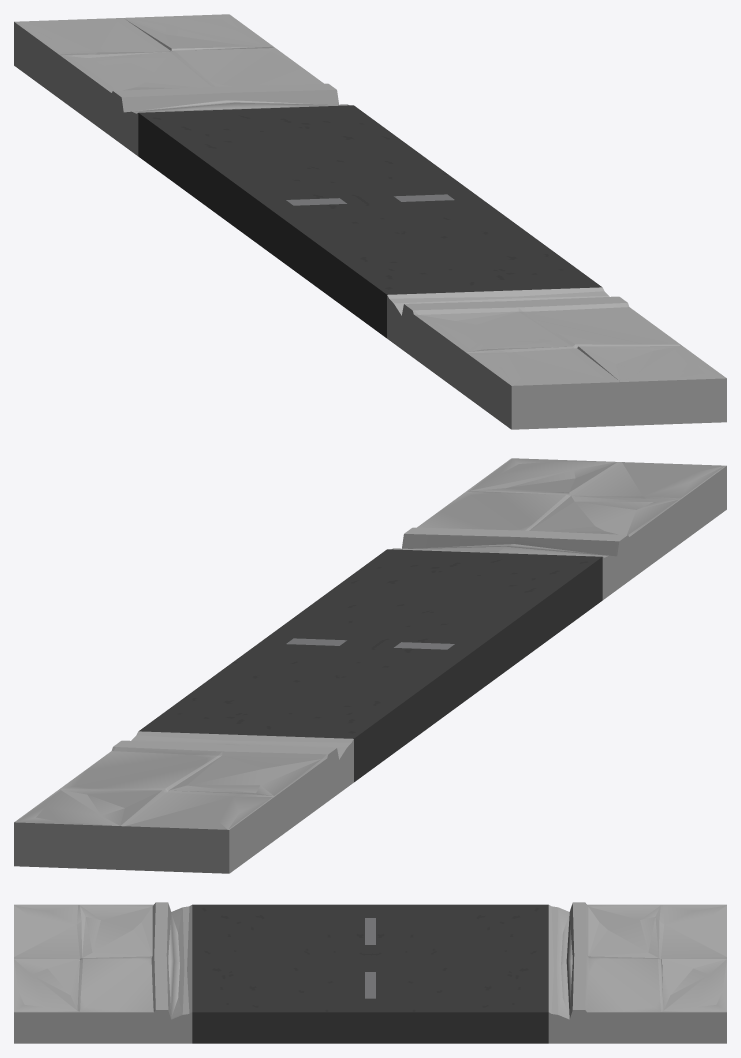
Rendered from SM_Env_Road_BridgeRamp_01.glb.
3 views of the same model, one above another, from view 1: azimuth 30°, elevation 25°; view 2: azimuth 150°, elevation 25°; view 3: azimuth 270°, elevation 25° (orthographic). The views are drawn at different scales.
Visible parts, largest first — view 1: SM_Env_Road_BridgeRamp_01; view 2: SM_Env_Road_BridgeRamp_01; view 3: SM_Env_Road_BridgeRamp_01.
Part boxes in pixels (bbox=[...]): SM_Env_Road_BridgeRamp_01: bbox=[14, 14, 726, 429]; SM_Env_Road_BridgeRamp_01: bbox=[14, 458, 726, 873]; SM_Env_Road_BridgeRamp_01: bbox=[14, 902, 726, 1043].
Size of the model in its own units: 5 by 2.04 by 20.
Materials: 2 (1 with a texture image).
